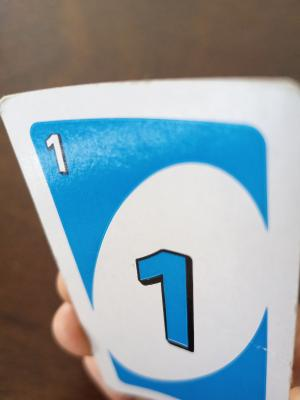num_1: (64, 106, 273, 376), (37, 124, 83, 185)
